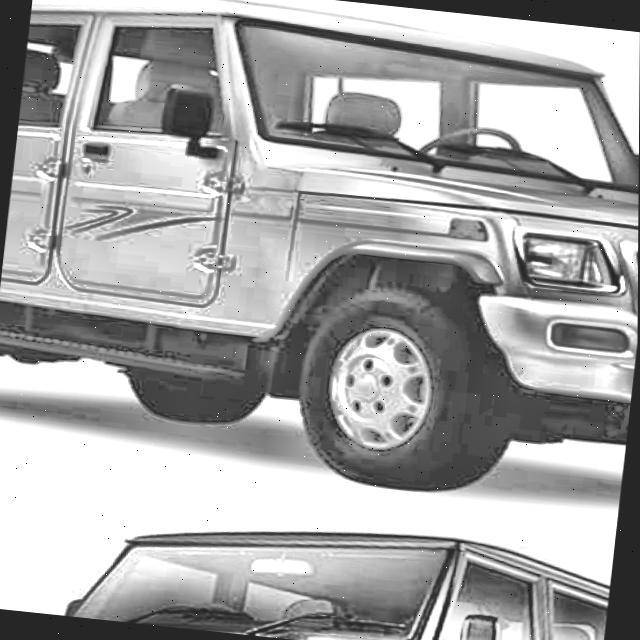light_vehicle: (0, 6, 640, 506), (0, 474, 615, 640)
